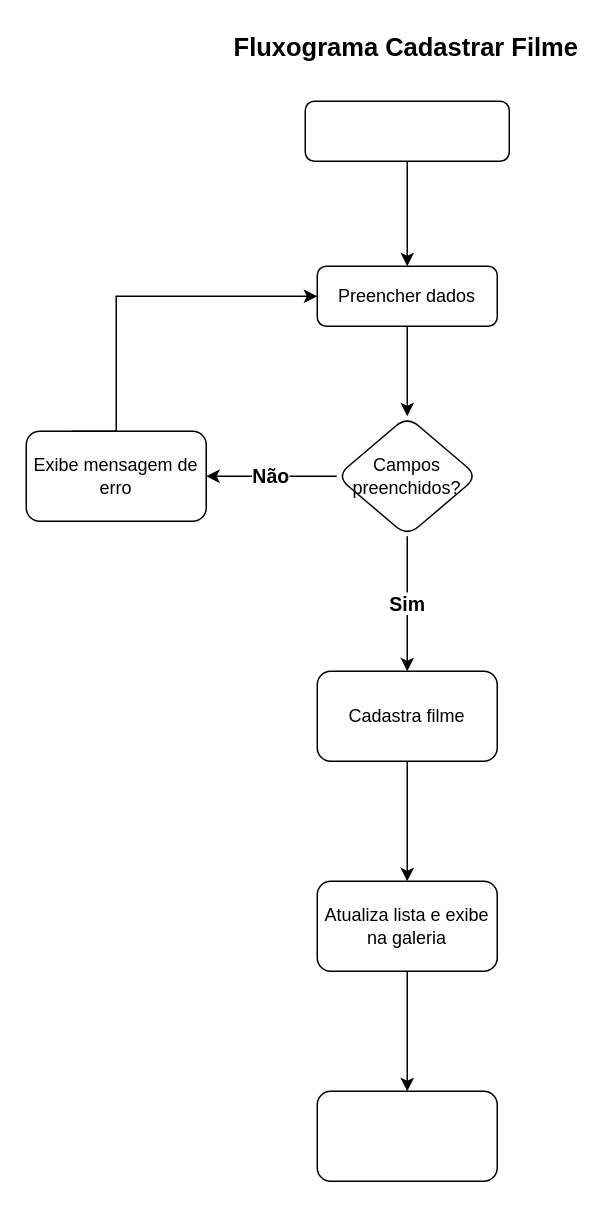
This 611x1208 diagram has some shape labels left out. The shapes that lost their labels are listed below. From the top down, each one's centre as x and y in pixels, then its label:
point (406, 130): Acessar tela de cadastro
point (406, 1135): Redireciona para tela principal
